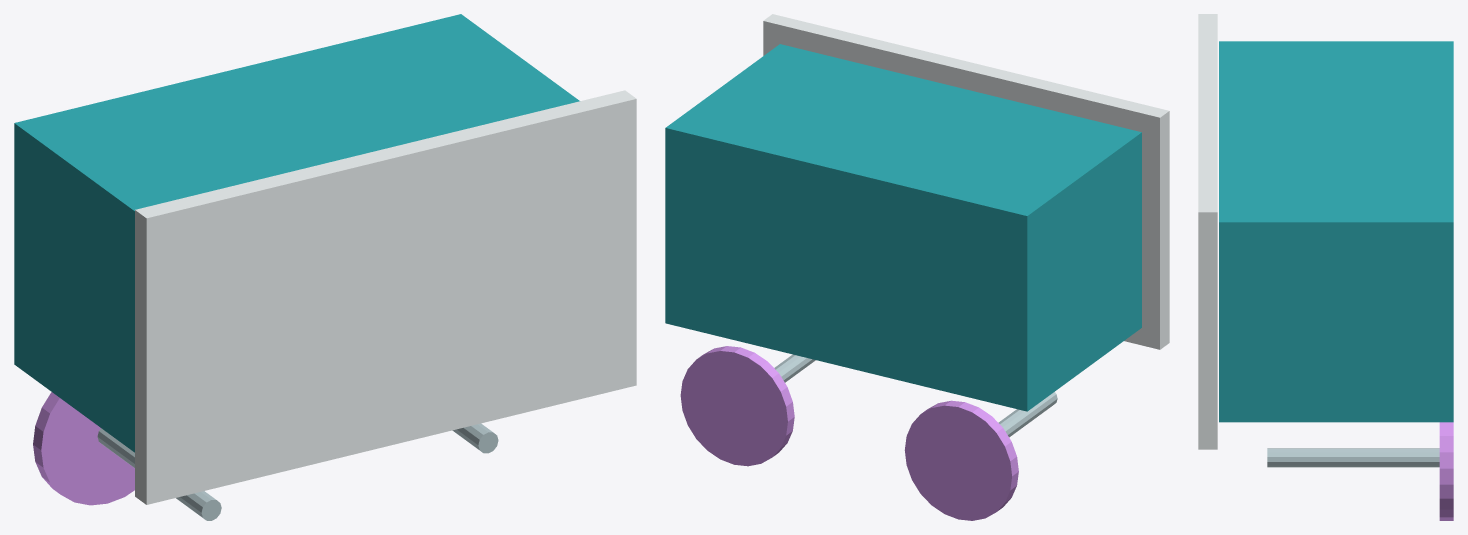
The model's file is kitchen-island-stools.glb.
3 views of the same model, side by side, from view 1: azimuth 30°, elevation 25°; view 2: azimuth 150°, elevation 25°; view 3: azimuth 270°, elevation 25° (orthographic). The views are drawn at different scales.
Parts seen in each view (by area): view 1: world; view 2: world; view 3: world.
Boxes of the visible parts, left/top/right/bottom form: world: left=14, top=14, right=636, bottom=520; world: left=665, top=14, right=1169, bottom=520; world: left=1198, top=14, right=1453, bottom=520.
Bounding box in the file's own units: 1.7 × 1.39 × 0.925.
